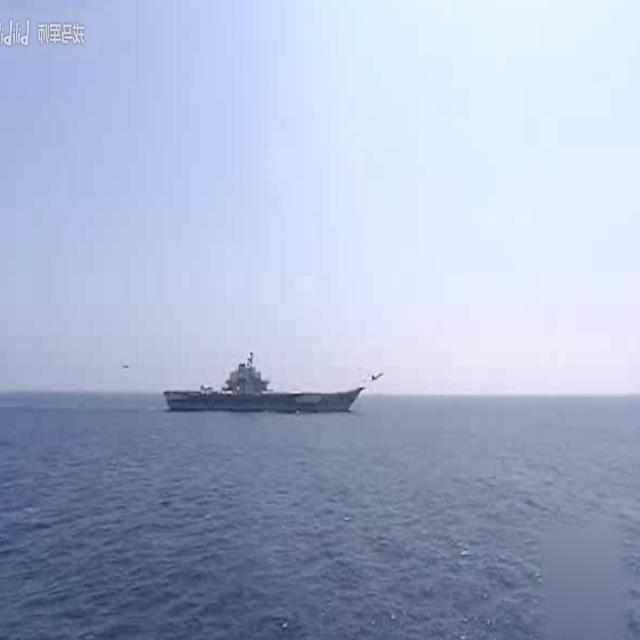navalvessels: (158, 347, 361, 421)
